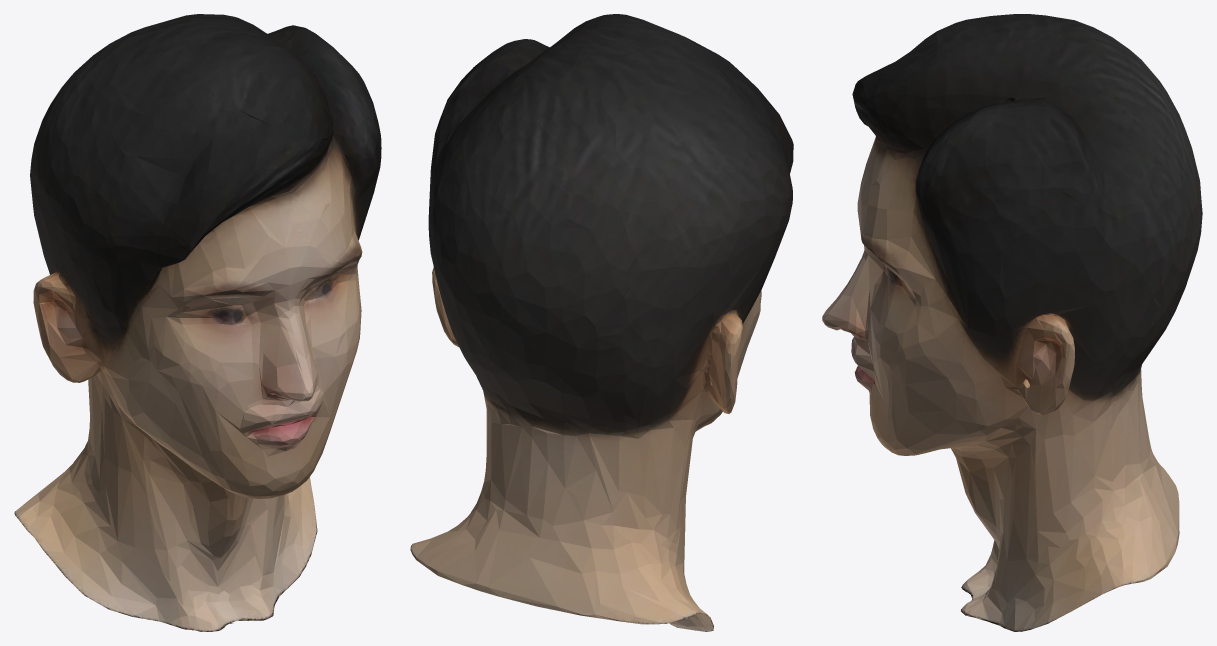
The model's file is head-young.glb.
The picture shows the model from 3 angles, left to right: view 1: azimuth 30°, elevation 25°; view 2: azimuth 150°, elevation 25°; view 3: azimuth 270°, elevation 25°; orthographic projection. The views are drawn at different scales.
Parts seen in each view (by area): view 1: geometry_0; view 2: geometry_0; view 3: geometry_0.
Boxes of the visible parts, box(x1,y1,x2,y2) form: geometry_0: box(14, 14, 381, 631); geometry_0: box(410, 14, 793, 631); geometry_0: box(822, 14, 1202, 631).
Size of the model in its own units: 0.5495 by 1 by 0.6052.
1 material, 1 textured.
